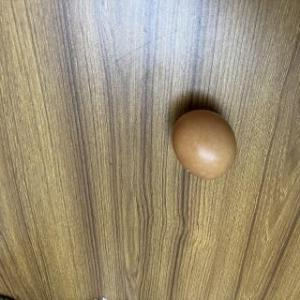egg: (166, 108, 240, 186)
